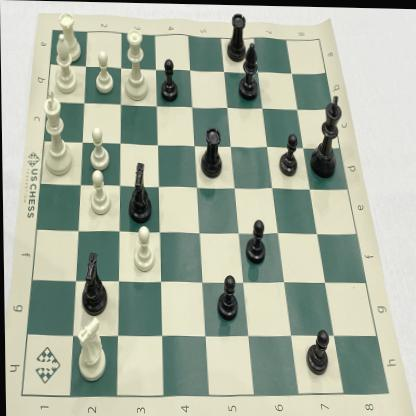black-bishop: (236, 38, 260, 103)
black-king: (308, 91, 346, 179)
black-knight: (78, 247, 110, 318), (125, 158, 156, 225)
black-pawn: (213, 270, 240, 325), (302, 326, 330, 379), (276, 130, 301, 180), (244, 214, 268, 266), (158, 55, 180, 105)
black-rook: (198, 124, 224, 181), (224, 6, 249, 64)
white-bishop: (50, 26, 80, 97)
white-king: (39, 88, 77, 179)
white-knight: (72, 314, 110, 384)
white-pawn: (130, 223, 156, 275), (86, 167, 113, 217), (86, 123, 111, 174), (92, 48, 116, 96)
white-queen: (123, 22, 152, 106)
white-rook: (56, 8, 82, 64)
